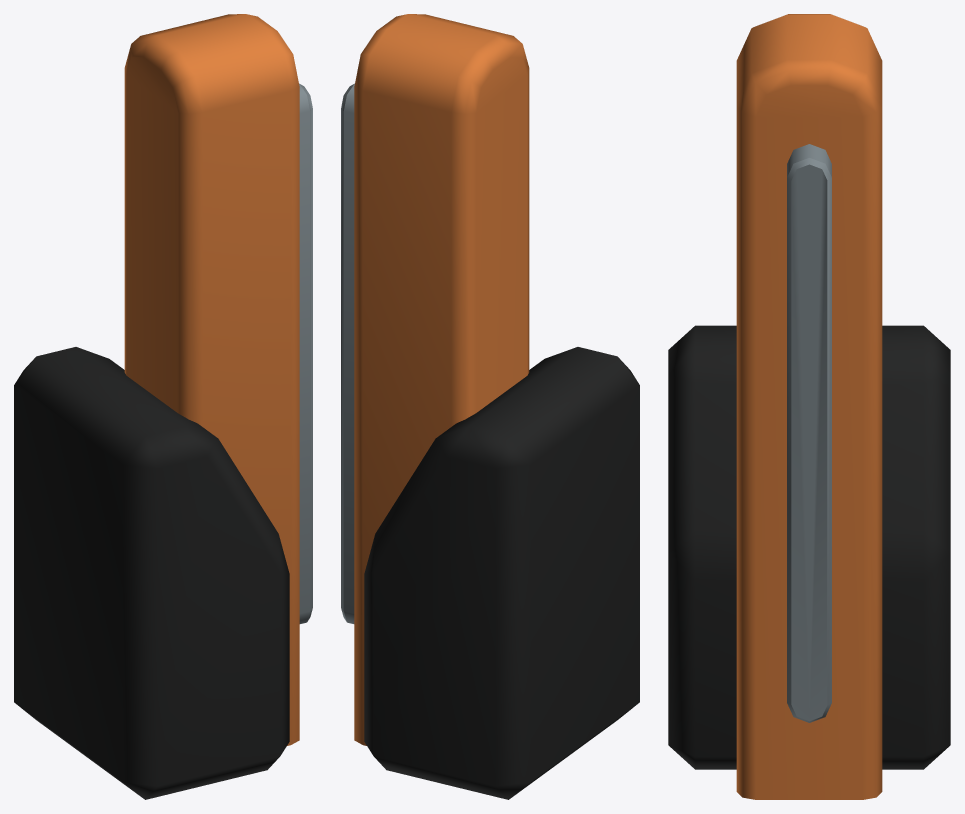
Rendered from obstacle_6_001.fbx.
3 views of the same model, side by side, from view 1: azimuth 30°, elevation 25°; view 2: azimuth 150°, elevation 25°; view 3: azimuth 270°, elevation 25° (orthographic). The views are drawn at different scales.
Parts seen in each view (by area): view 1: obstacle_6_001; view 2: obstacle_6_001; view 3: obstacle_6_001.
Part boxes in pixels (left/top/right/bottom): obstacle_6_001: left=14, top=14, right=312, bottom=799; obstacle_6_001: left=341, top=14, right=639, bottom=799; obstacle_6_001: left=668, top=14, right=950, bottom=799.
Bounding box in the file's own units: 172 × 170 × 487.
